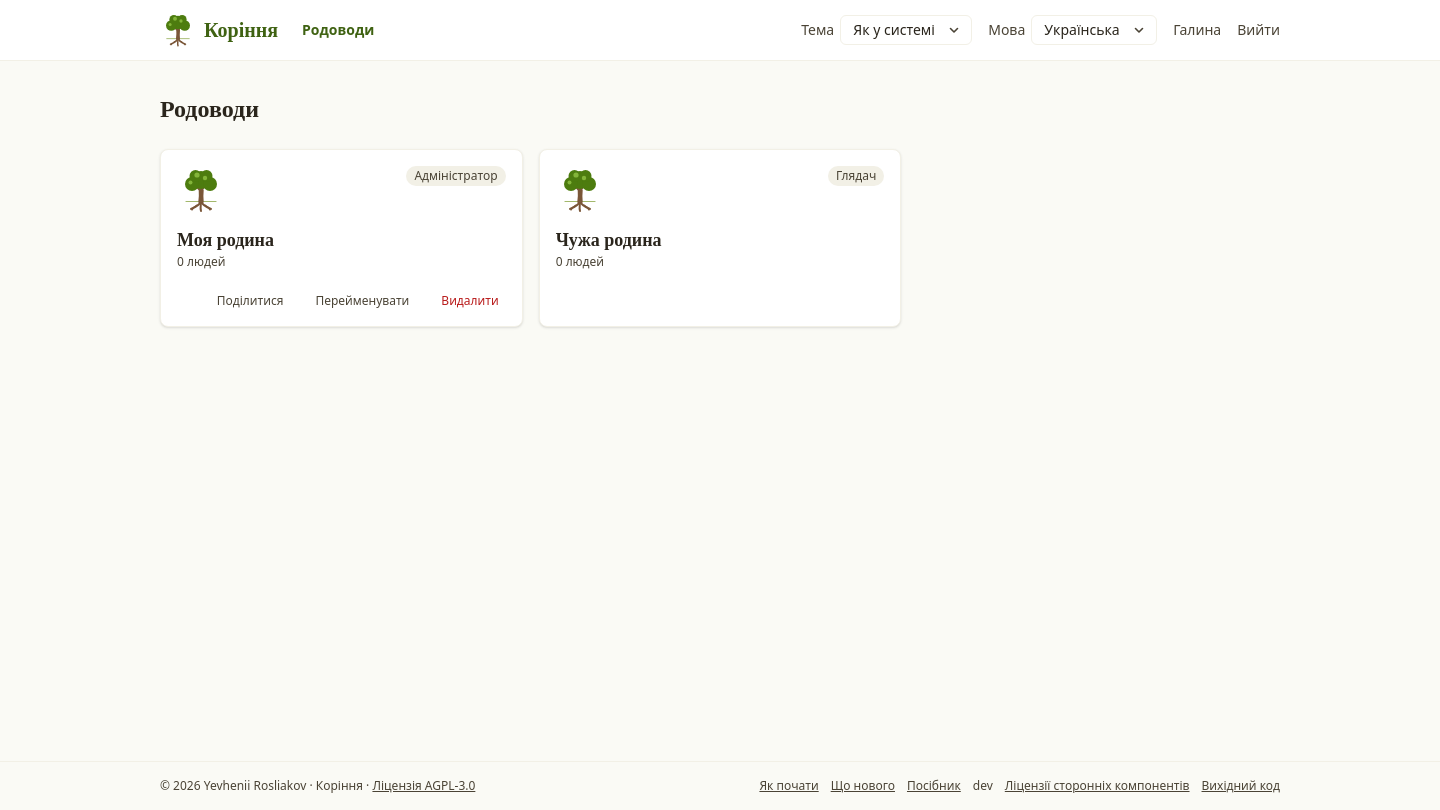
admin trees › lets a tree admin delete a tree from its card on the tree list
Expected: the link "Глядач Чужа родина 0 людей" is shown, [539,149,901,327]
Step 1. Click the button with aria-label "Видалити родовід «Моя родина»" → coordinates (470, 301), box [429,287,511,315]
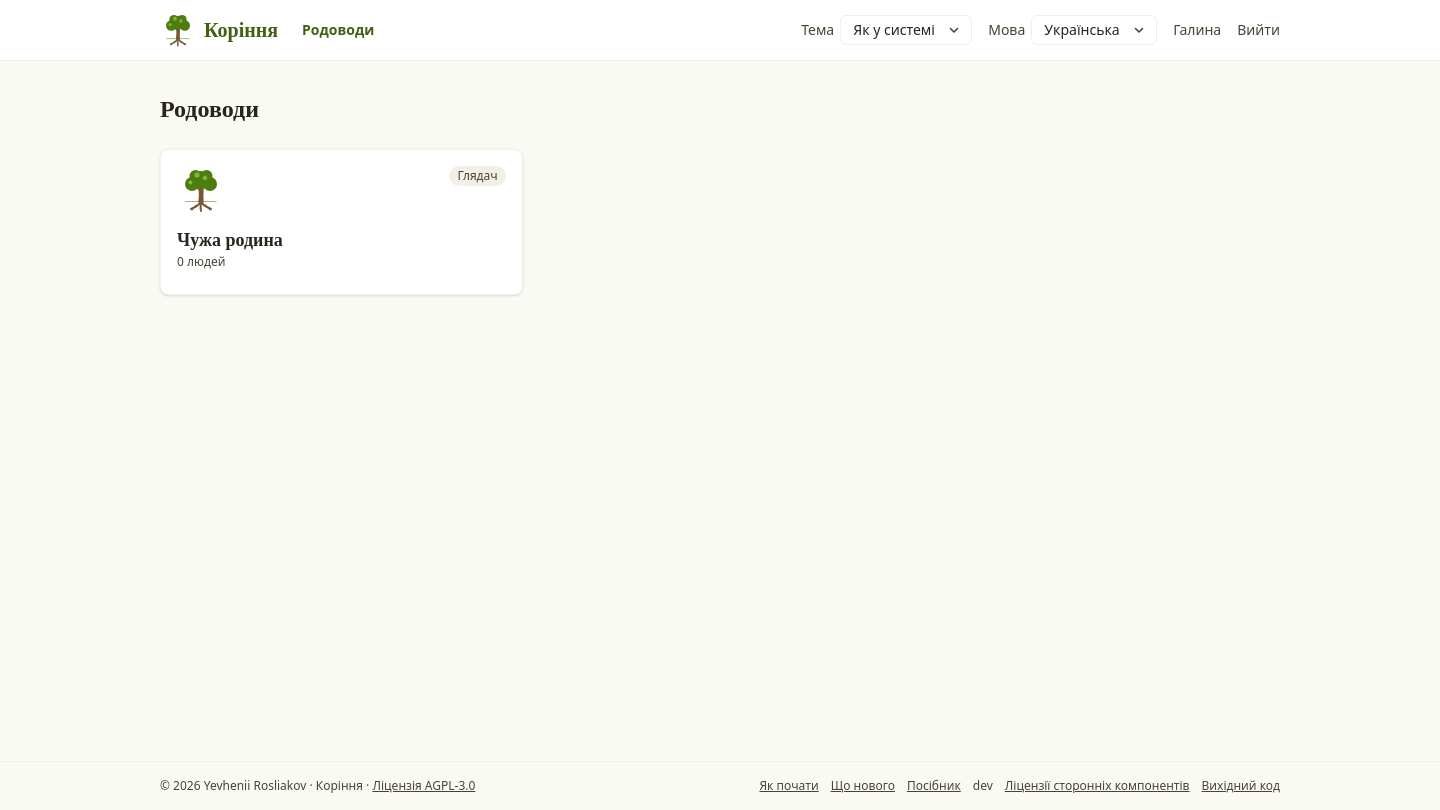
Expected: the link "Моя родина" is gone
